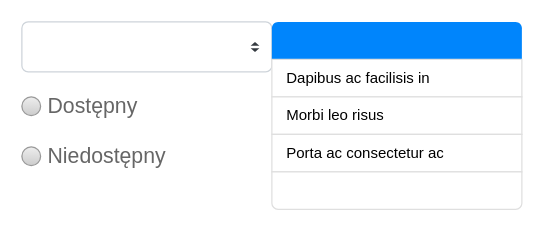
The diagram is 544 pixels wide and 231 high, and some of its shapes have lost their labels. Each missing label, with the centre of its shape:
Cras justo odio: pixel 396 40
Open this select menu: pixel 146 46
Vestibulum at eros: pixel 396 190
